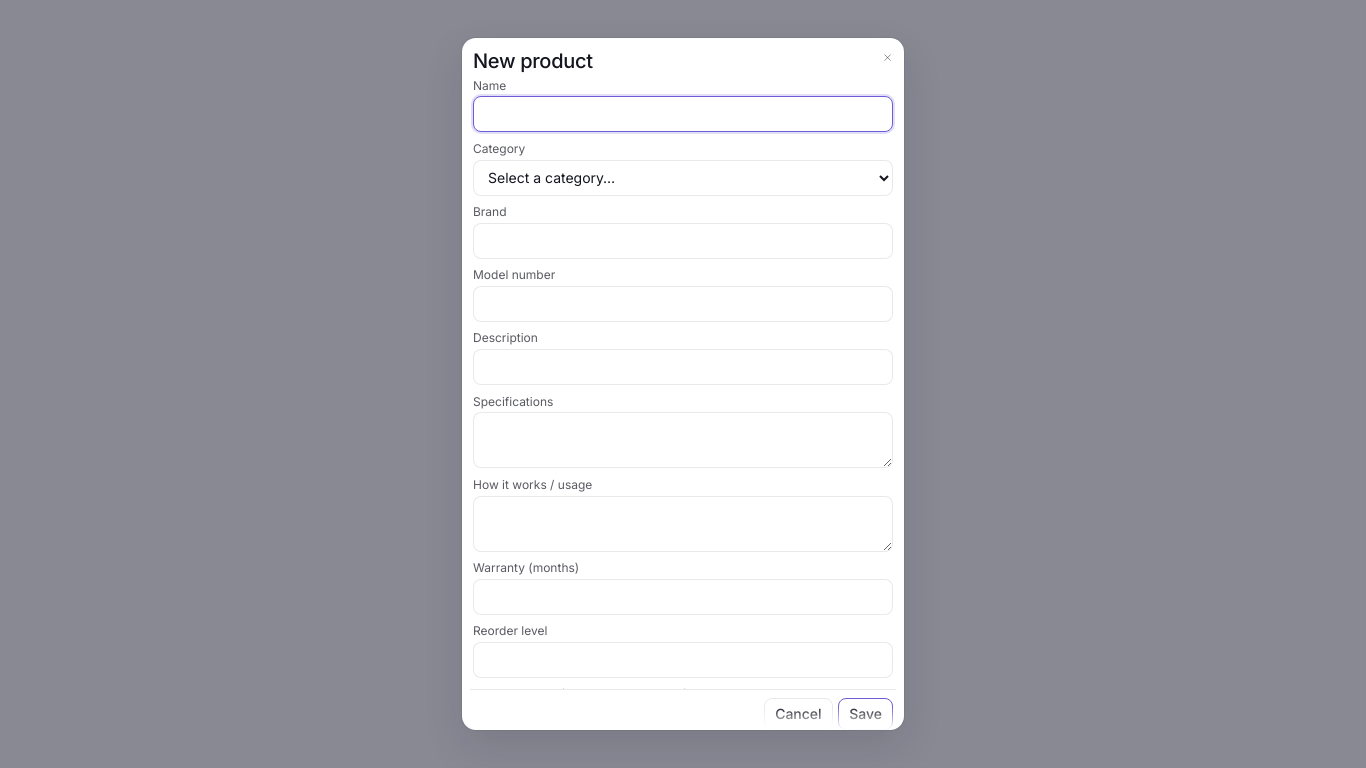
Test: ProductFormDialog › shows a similar-product warning in create mode when the typed name matches an existing product
Type "Scales 60kg" into the field labelled "Name" at coordinates (683, 114), box [473,96,893,132]
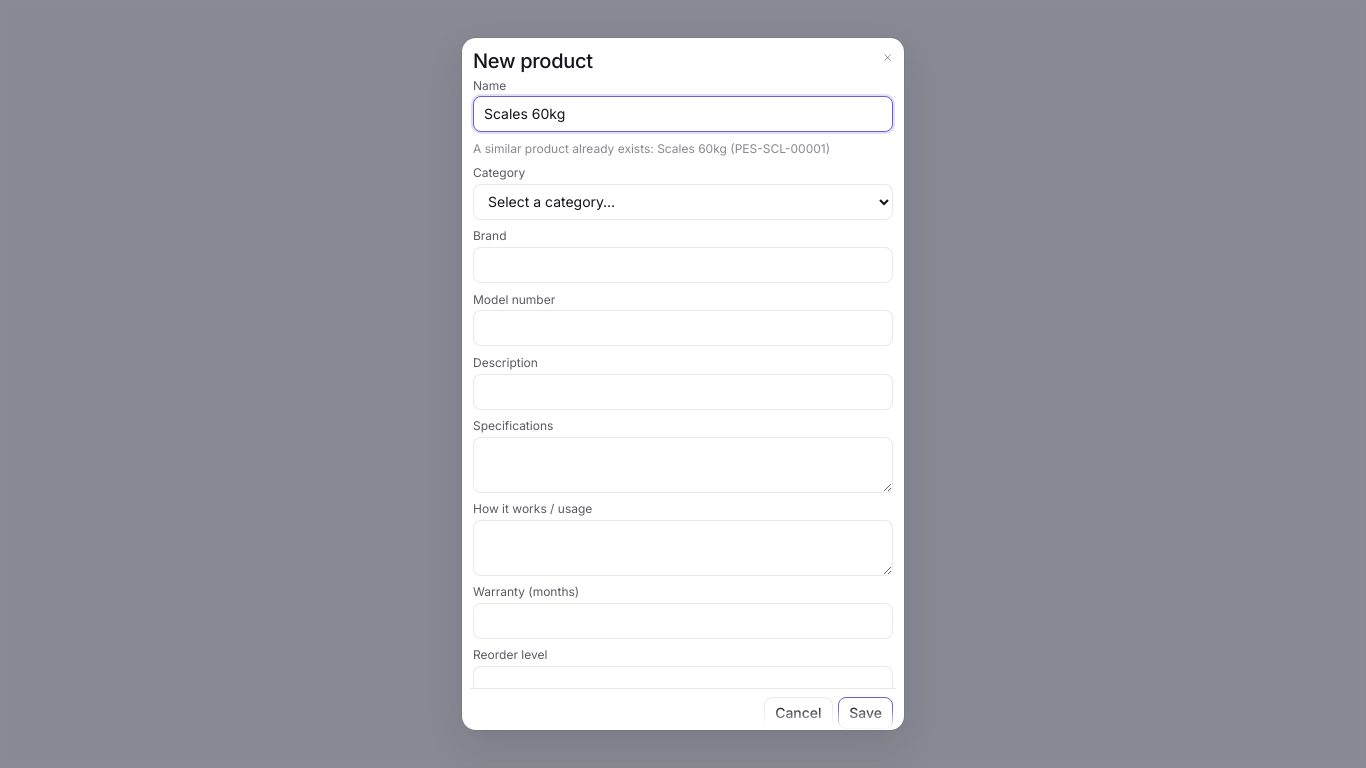
Expected: the text "A similar product already exists: Scales 60kg (PES-SCL-00001)" is shown, [473,141,893,157]
